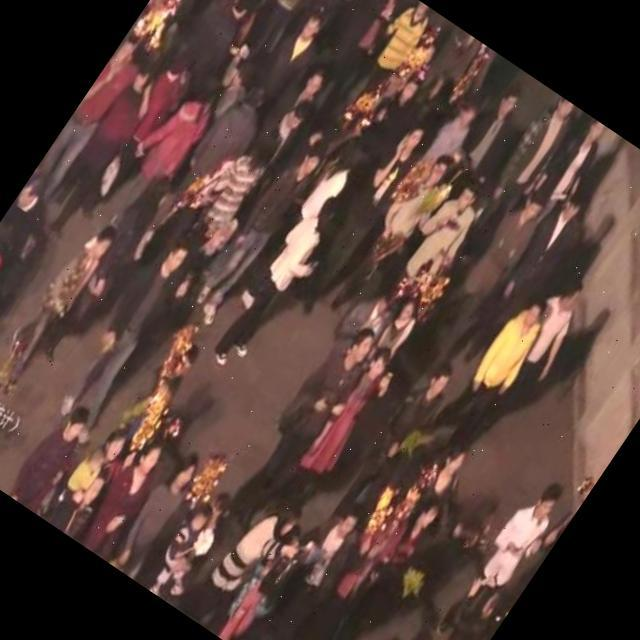person: (393, 177, 560, 398), (220, 315, 388, 534), (198, 180, 360, 392), (52, 233, 215, 442), (180, 132, 338, 340), (282, 119, 440, 326), (32, 170, 191, 375), (311, 140, 470, 344), (260, 471, 437, 640), (262, 338, 412, 532), (453, 181, 603, 374), (462, 269, 608, 456), (304, 476, 469, 640), (71, 41, 214, 226), (32, 58, 176, 240), (420, 287, 563, 469), (447, 91, 588, 272), (332, 350, 470, 531), (0, 215, 130, 407), (24, 25, 158, 203), (105, 65, 238, 232), (375, 164, 505, 324), (240, 496, 384, 640), (185, 484, 311, 640), (460, 471, 578, 614), (487, 482, 595, 638), (105, 446, 219, 586), (232, 0, 350, 130), (138, 476, 252, 610), (110, 328, 217, 453), (178, 76, 281, 202), (75, 434, 177, 561), (44, 419, 146, 543), (215, 518, 318, 640), (306, 0, 417, 109), (446, 69, 542, 186), (8, 401, 104, 517), (528, 114, 620, 223), (349, 0, 440, 106), (350, 0, 437, 98), (176, 0, 274, 87), (418, 87, 498, 177), (429, 564, 522, 640), (303, 130, 381, 218), (0, 149, 53, 261), (0, 173, 70, 255), (249, 93, 318, 176), (0, 214, 31, 318), (0, 359, 20, 464)
